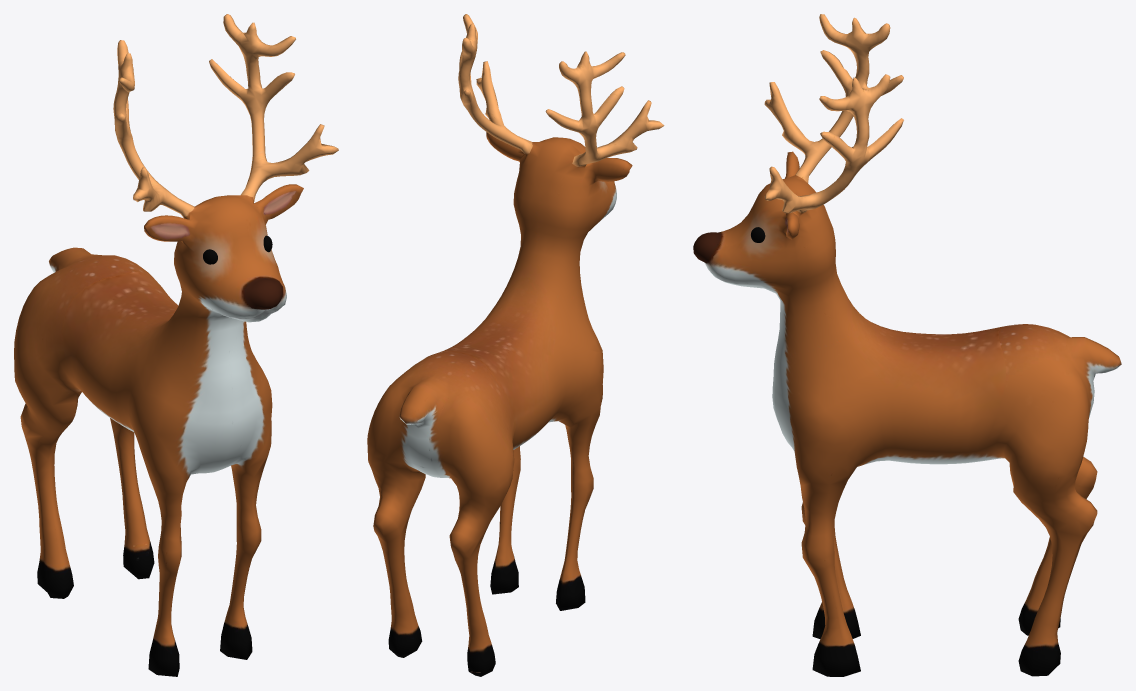
File: reindeer.glb
The picture shows the model from 3 angles, left to right: view 1: azimuth 30°, elevation 25°; view 2: azimuth 150°, elevation 25°; view 3: azimuth 270°, elevation 25°; orthographic projection. The views are drawn at different scales.
Visible parts, largest first — view 1: reno_rtpo2.001; view 2: reno_rtpo2.001; view 3: reno_rtpo2.001.
Part boxes in pixels (left/top/right/bottom): reno_rtpo2.001: left=14, top=14, right=338, bottom=676; reno_rtpo2.001: left=367, top=14, right=664, bottom=676; reno_rtpo2.001: left=693, top=14, right=1121, bottom=676.
Size of the model in its own units: 3.54 by 10.15 by 6.5.
Materials: 1 (1 with a texture image).
